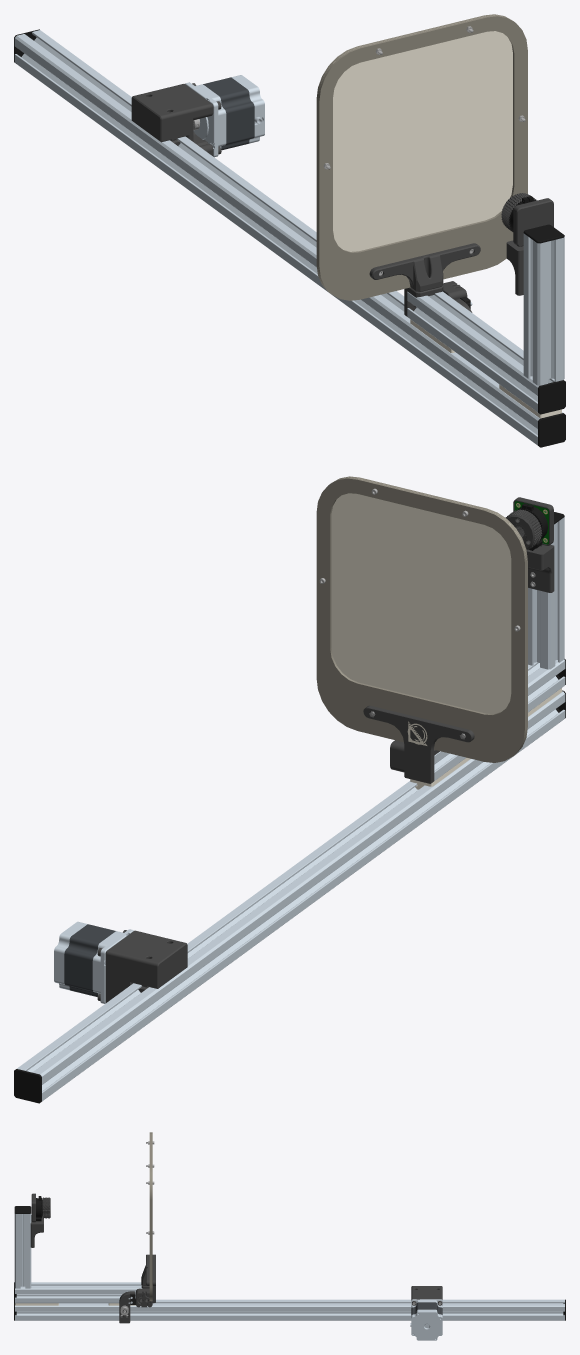
File: Linear Gantry Animation.glb
3 views of the same model, one above another, from view 1: azimuth 30°, elevation 25°; view 2: azimuth 150°, elevation 25°; view 3: azimuth 270°, elevation 25° (orthographic). The views are drawn at different scales.
Visible parts, largest first — view 1: Image Plane, 30-3030C.001, Image Frame.001, 30-3030C.002, 30-3030C, MotorMount, Back Fix, 6627T53_Stepper Motor.002, 6627T53_Stepper Motor.004, Cam Case, Image Frame, 3030 Endcap.002 (+3 smaller); view 2: Image Plane, 30-3030C.001, Image Frame, MotorMount, 30-3030C, Front Fix, 30-3030C.002, 6627T53_Stepper Motor.002, Part 1.001, 6627T53_Stepper Motor.004, Image Frame.001, 3030 Endcap.003 (+2 smaller); view 3: 30-3030C.001, 30-3030C.002, 30-3030C, 6627T53_Stepper Motor.007, MotorMount, Image Frame, Image Frame.001, Idler-Endstop Mount, Belt Block.
Boxes of the visible parts, x1,y1,x2,y2 form: Image Plane: (318, 15, 512, 251); 30-3030C.001: (14, 30, 562, 445); Image Frame.001: (318, 15, 527, 300); 30-3030C.002: (407, 291, 561, 418); 30-3030C: (523, 233, 564, 385); MotorMount: (131, 84, 213, 155); Back Fix: (369, 243, 480, 291); 6627T53_Stepper Motor.002: (203, 77, 254, 150); 6627T53_Stepper Motor.004: (185, 82, 226, 157); Cam Case: (513, 198, 553, 246); Image Frame: (316, 14, 512, 292); 3030 Endcap.002: (538, 413, 565, 447); Image Plane: (331, 477, 526, 713); 30-3030C.001: (17, 691, 565, 1101); Image Frame: (316, 477, 526, 762); MotorMount: (105, 930, 187, 1002); 30-3030C: (528, 517, 564, 669); Front Fix: (363, 705, 474, 783); 30-3030C.002: (410, 659, 565, 789); 6627T53_Stepper Motor.002: (64, 924, 115, 996); Part 1.001: (526, 544, 554, 592); 6627T53_Stepper Motor.004: (92, 929, 133, 1003); Image Frame.001: (334, 476, 527, 754); 3030 Endcap.003: (14, 1069, 41, 1103); 30-3030C.001: (15, 1299, 564, 1320); 30-3030C.002: (15, 1282, 142, 1305); 30-3030C: (14, 1213, 31, 1288); 6627T53_Stepper Motor.007: (411, 1309, 442, 1340); MotorMount: (411, 1286, 442, 1299); Image Frame: (151, 1132, 152, 1301); Image Frame.001: (149, 1132, 150, 1301); Idler-Endstop Mount: (119, 1291, 135, 1323); Belt Block: (136, 1288, 152, 1307).
Size of the model in its own units: 0.23 by 0.335 by 1.
